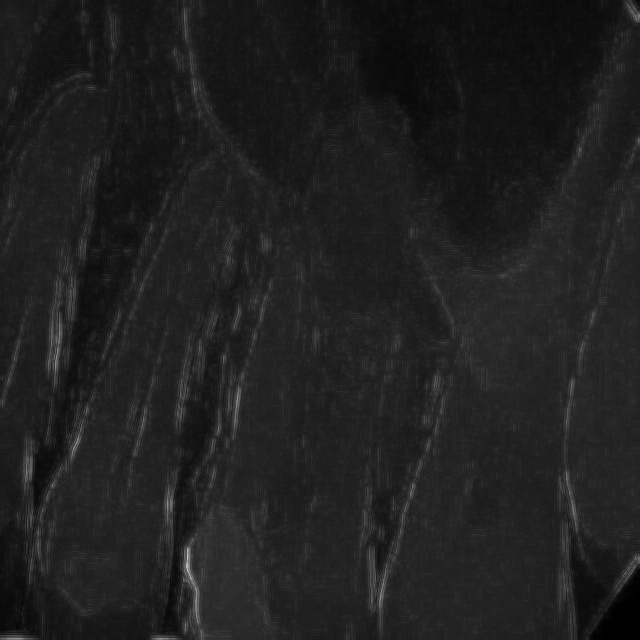cavity: (46, 94, 245, 624), (415, 176, 595, 621)
